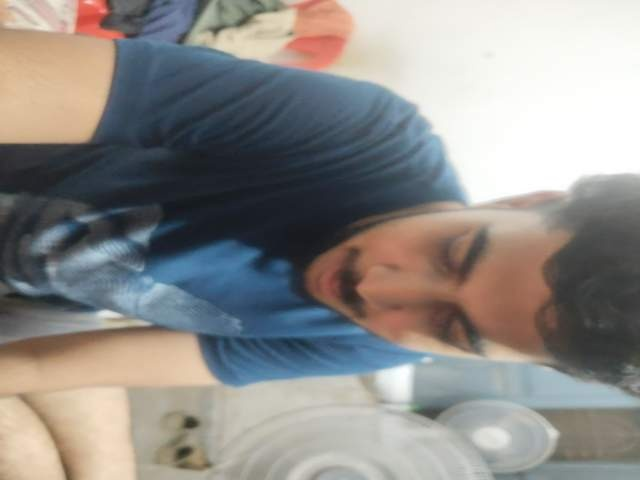pothole: (319, 300, 419, 380)
